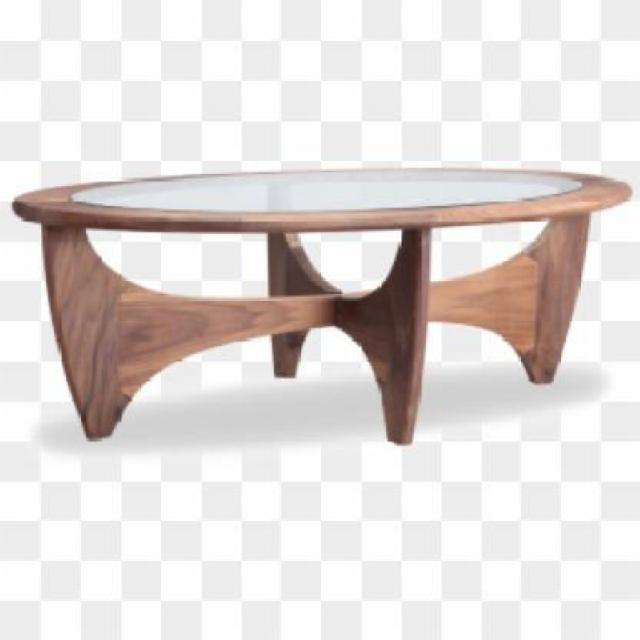table: (8, 165, 632, 448)
